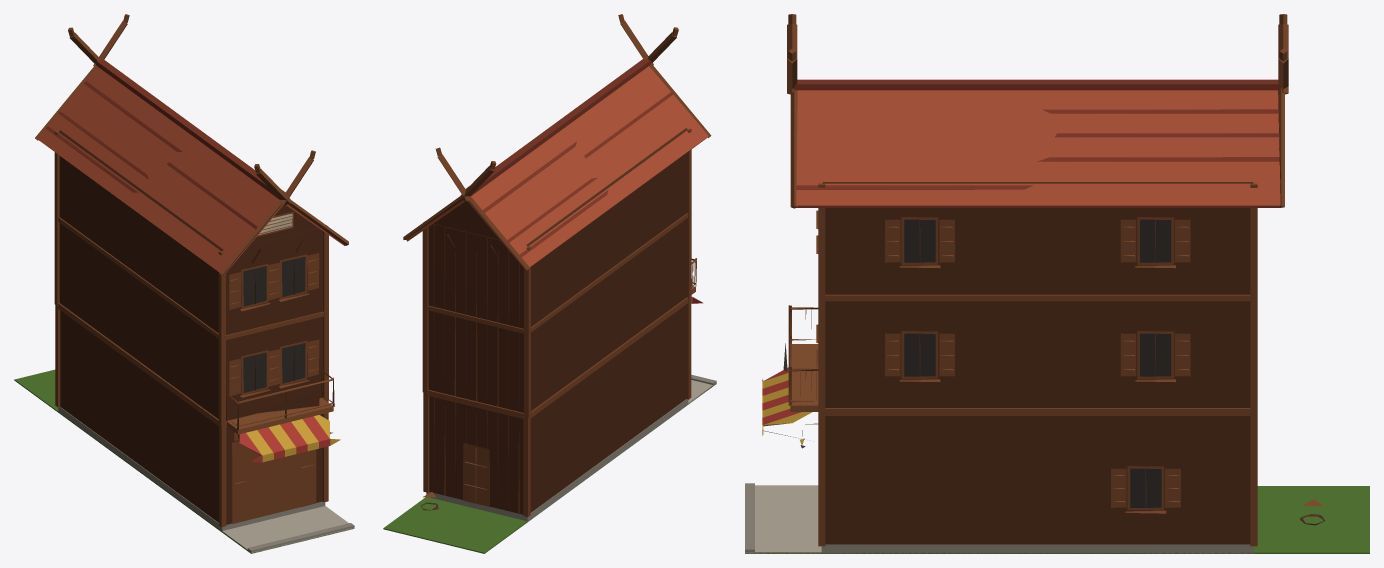
File: bay2_right.glb
The picture shows the model from 3 angles, left to right: view 1: azimuth 30°, elevation 25°; view 2: azimuth 150°, elevation 25°; view 3: azimuth 270°, elevation 25°; orthographic projection. The views are drawn at different scales.
Visible parts, largest first — view 1: body, windows; view 2: body; view 3: body, windows.
Boxes of the visible parts, <box> form: body: <box>14,14,354,553</box>; windows: <box>243,256,305,392</box>; body: <box>383,14,716,553</box>; body: <box>745,14,1369,553</box>; windows: <box>800,219,1171,507</box>.
Size of the model in its own units: 5.02 by 13.73 by 15.9.
